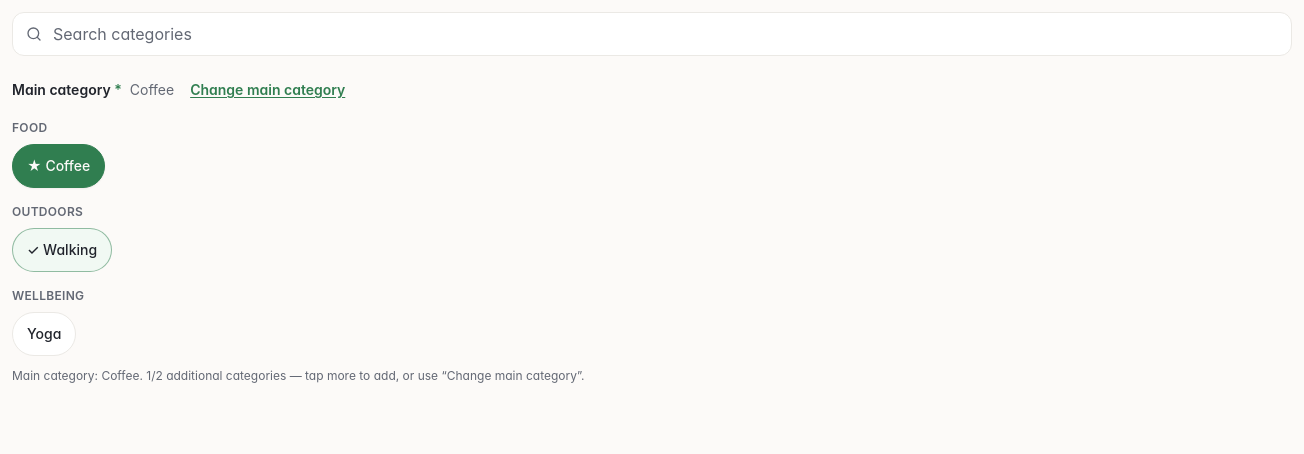
Test: WO-149 — main category change › tapping the current main category does not clear anything
Click the button with aria-label "Coffee (main category)". click: (59, 166)
box: [12,144,105,188]
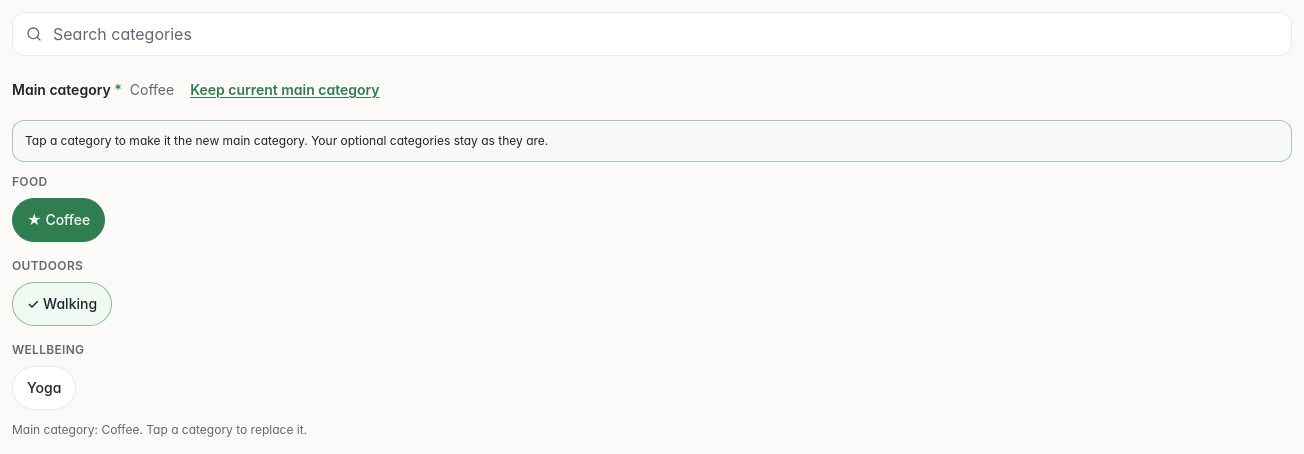
expect the message shows "new main category": met, box [25,133,548,148]
